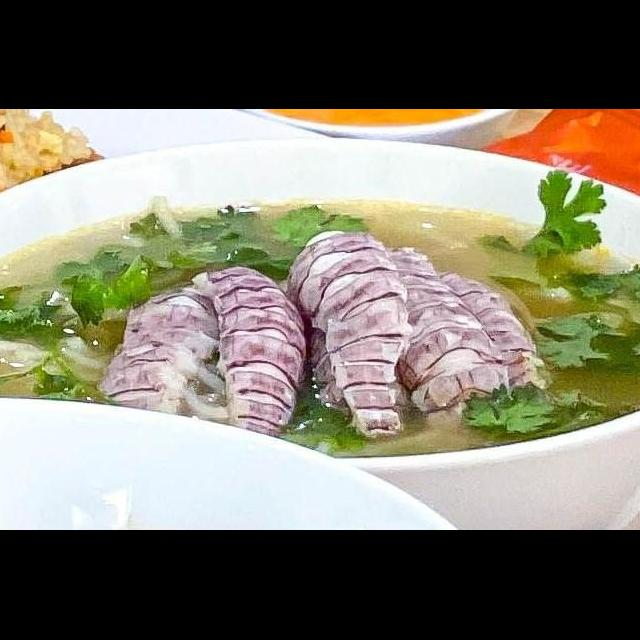bun: (0, 283, 119, 400)
tom tit: (272, 226, 418, 444), (366, 238, 514, 428), (188, 258, 316, 444), (90, 278, 236, 421), (428, 263, 554, 402)
